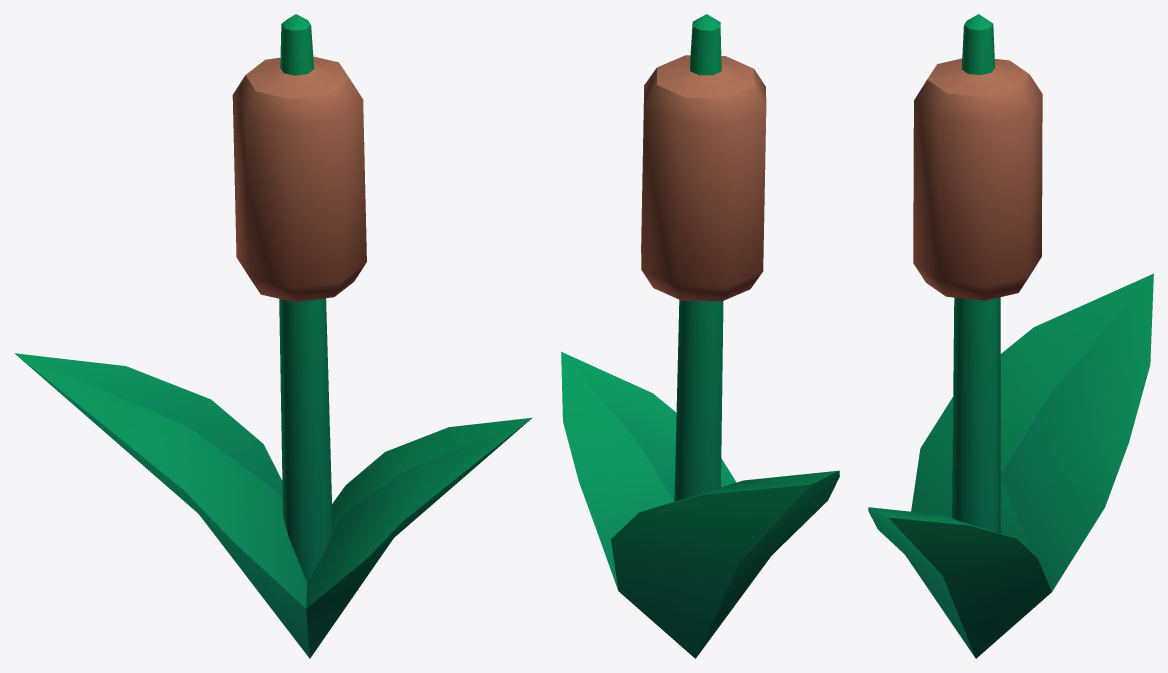
The model's file is waterplant_B.glb.
3 renders of one model, left to right at view 1: azimuth 30°, elevation 25°; view 2: azimuth 150°, elevation 25°; view 3: azimuth 270°, elevation 25°, orthographic.
Parts seen in each view (by area): view 1: waterplant_B; view 2: waterplant_B; view 3: waterplant_B.
Part boxes in pixels (x1=…): waterplant_B: x1=14, y1=14, x2=532, y2=658; waterplant_B: x1=561, y1=14, x2=839, y2=658; waterplant_B: x1=868, y1=14, x2=1153, y2=658.
Size of the model in its own units: 0.158 by 0.2542 by 0.1031.
Materials: 1 (1 with a texture image).
